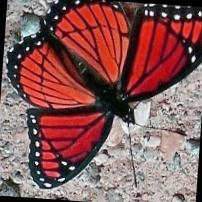butterfly: (6, 0, 202, 188)
